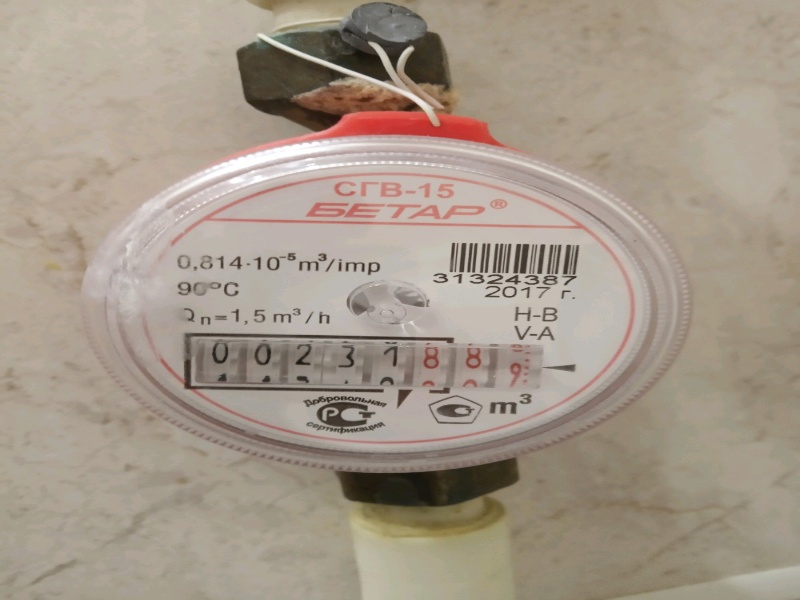meter: (170, 329, 539, 393)
